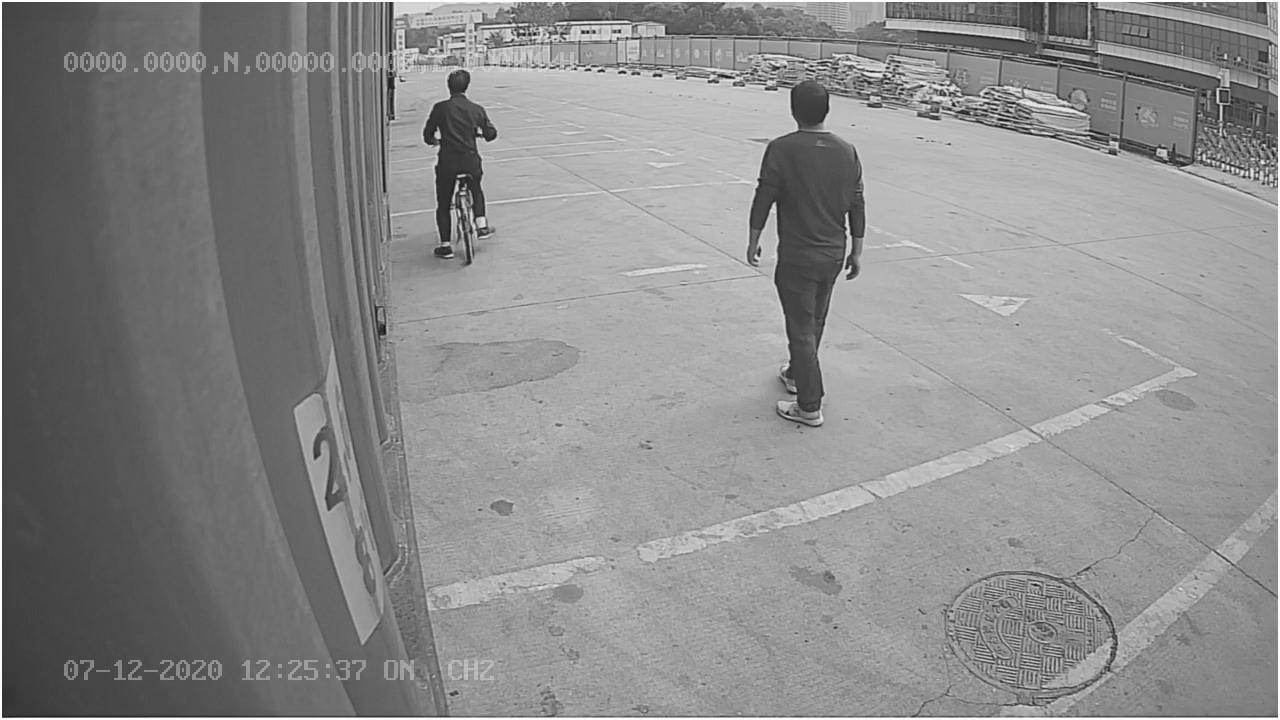person: (736, 75, 875, 430)
